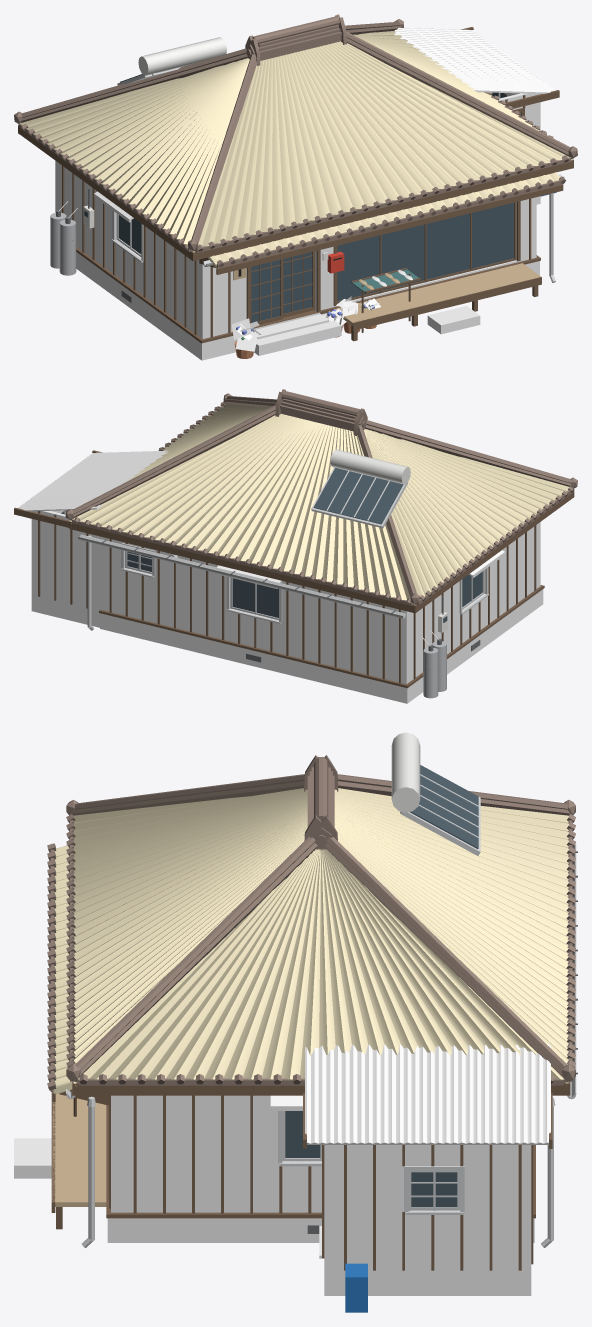
Rendered from house_hira.glb.
3 renders of one model, top to bottom at view 1: azimuth 30°, elevation 25°; view 2: azimuth 150°, elevation 25°; view 3: azimuth 270°, elevation 25°, orthographic. The views are drawn at different scales.
Parts seen in each view (by area): view 1: house_hira_body; view 2: house_hira_body; view 3: house_hira_body.
Boxes of the visible parts, x1,y1,x2,y2 form: house_hira_body: (14, 14, 577, 360); house_hira_body: (14, 389, 577, 703); house_hira_body: (14, 732, 577, 1312).
Size of what is drawn, in the model's own units: 11.8 by 5.8 by 8.72.
